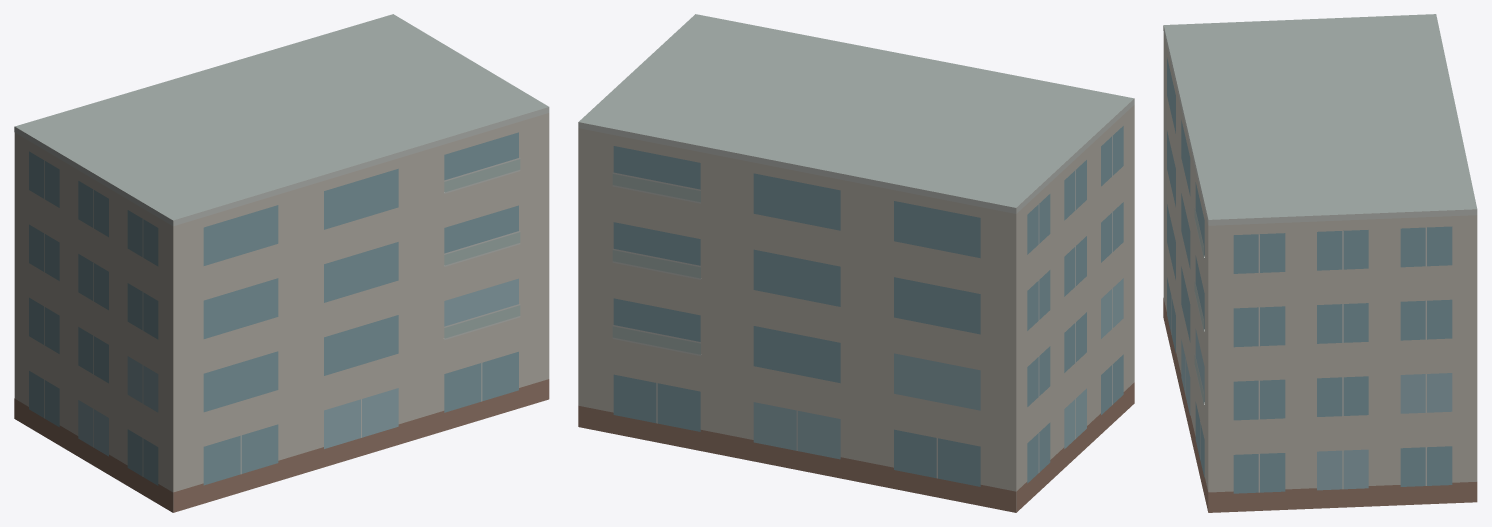
Rendered from survey-upis-32755811.glb.
3 renders of one model, left to right at view 1: azimuth 30°, elevation 25°; view 2: azimuth 150°, elevation 25°; view 3: azimuth 270°, elevation 25°, orthographic. The views are drawn at different scales.
Parts seen in each view (by area): view 1: survey-upis-32755811.tmp; view 2: survey-upis-32755811.tmp; view 3: survey-upis-32755811.tmp.
Boxes of the visible parts, <box> form: survey-upis-32755811.tmp: <box>14,14,549,512</box>; survey-upis-32755811.tmp: <box>578,14,1134,512</box>; survey-upis-32755811.tmp: <box>1163,14,1477,512</box>.
Bounding box in the file's own units: 18.4 × 12.2 × 11.85.
